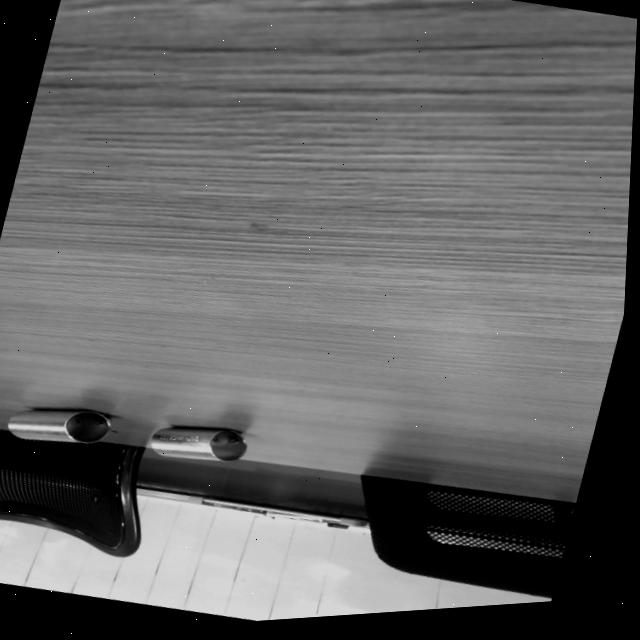Co_Lon: (7, 408, 111, 443)
Co_Nho: (149, 426, 247, 462)
